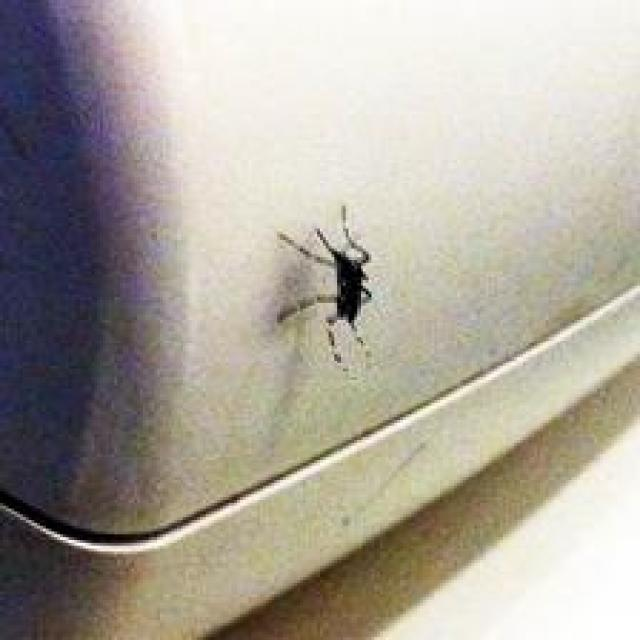Aedes albopictus: (274, 203, 374, 371)
